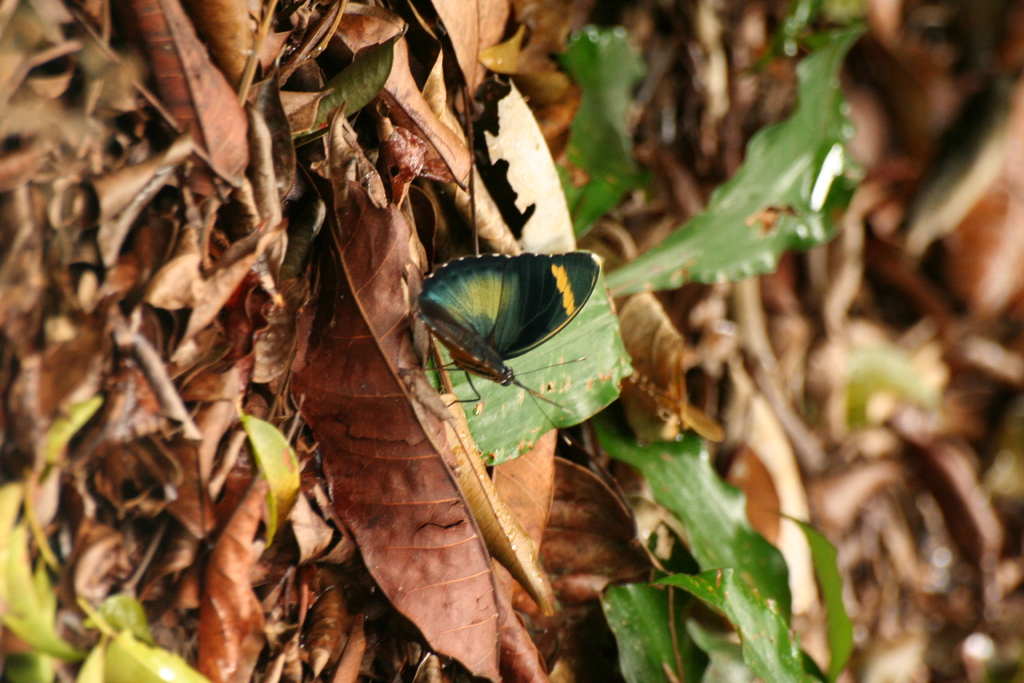Butterfly: (420, 233, 600, 396)
